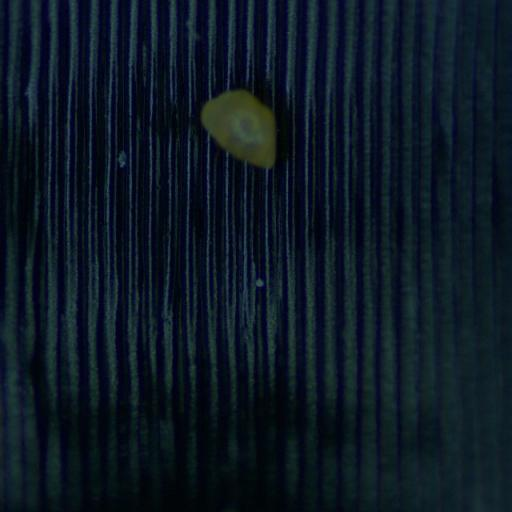mineral: (201, 90, 276, 167)
